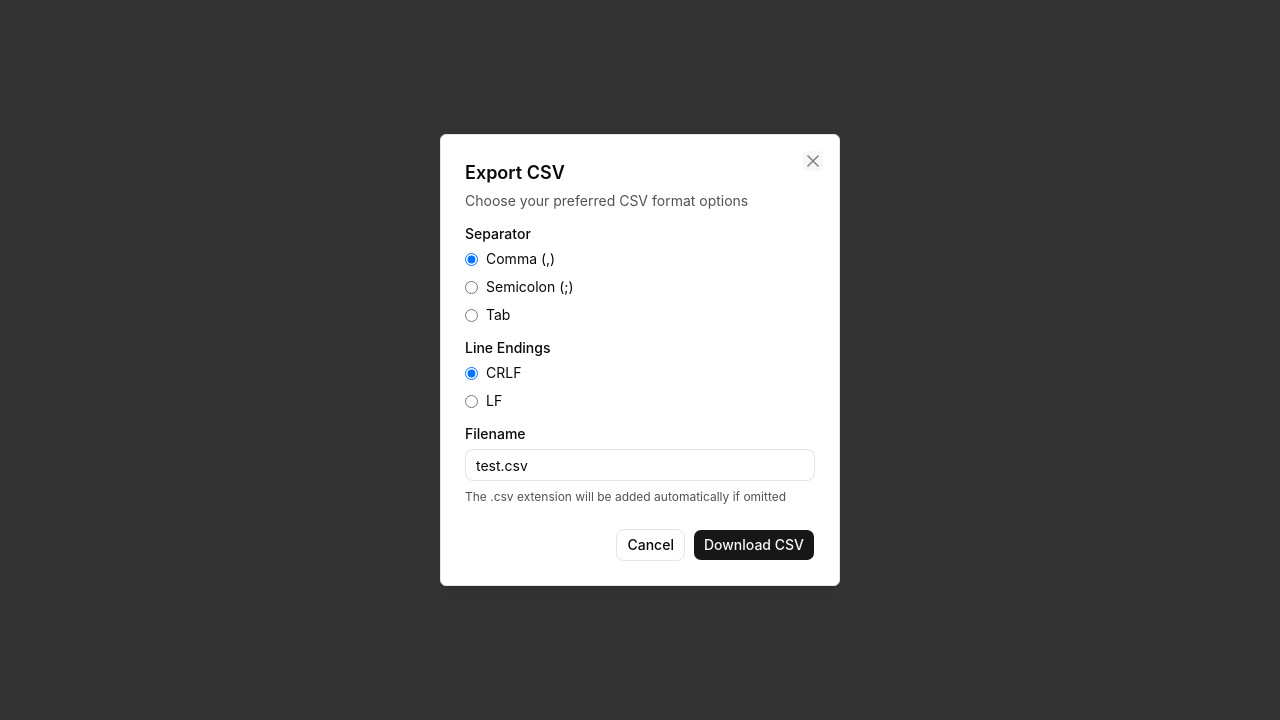
CsvExportModal › separator radio group › semicolon radio can be selected
What coordinates should you click on to do the following:
click the radio button with test id "csv-separator-semicolon"
I would click on:
 (472, 287)
Its box is [465, 280, 478, 294].
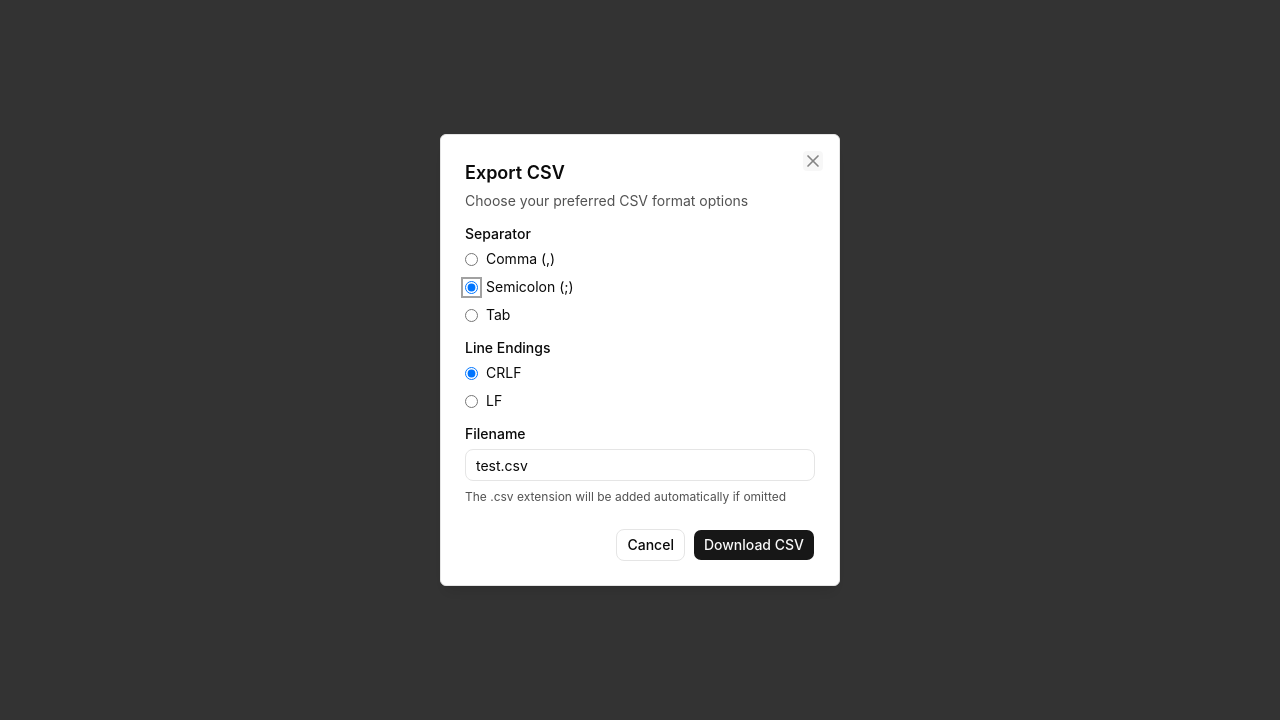
Check: the radio button with test id "csv-separator-semicolon" is checked, box [465, 280, 478, 294]
Check: the radio button with test id "csv-separator-comma" is not checked, box [465, 252, 478, 266]
